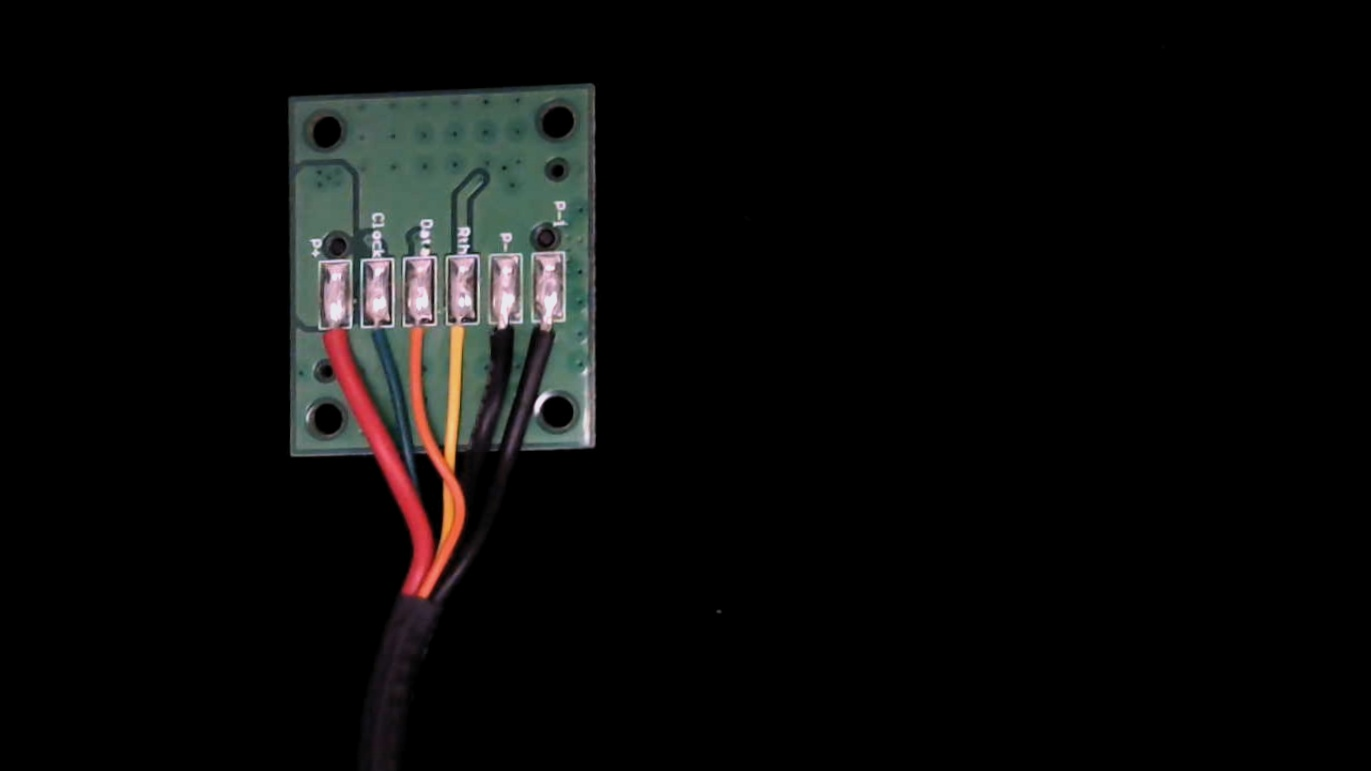Black: (482, 305, 523, 384)
Black1: (529, 306, 568, 379)
Green: (357, 309, 397, 385)
Orange: (397, 308, 436, 386)
Red: (316, 309, 356, 385)
Yellow: (440, 307, 480, 388)
